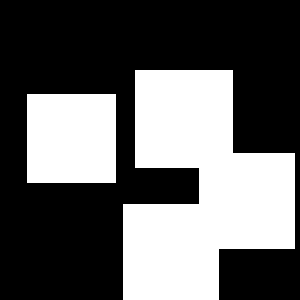circle: (135, 70, 233, 168), (123, 204, 219, 300), (199, 153, 295, 249), (27, 94, 116, 183)
triangle: (86, 111, 113, 138)
